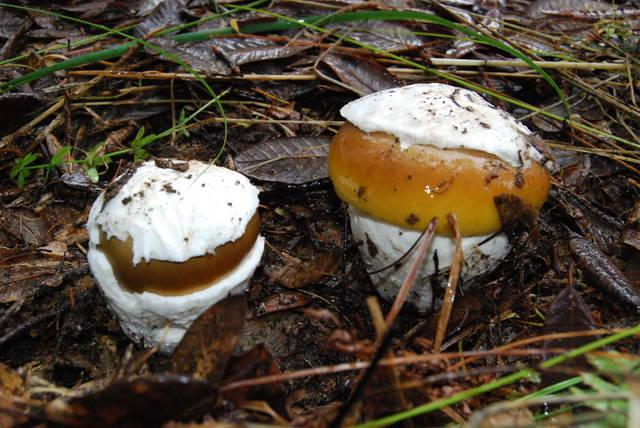Edible Mushroom: (326, 80, 553, 314), (85, 156, 265, 357)
